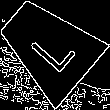L_NW: (20, 19, 76, 75)
